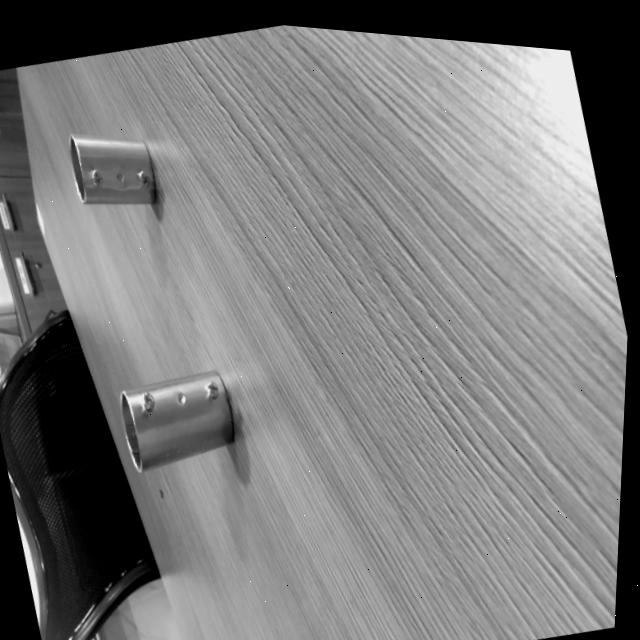Co_Lon: (114, 366, 239, 473)
Co_Nho: (68, 134, 154, 204)
